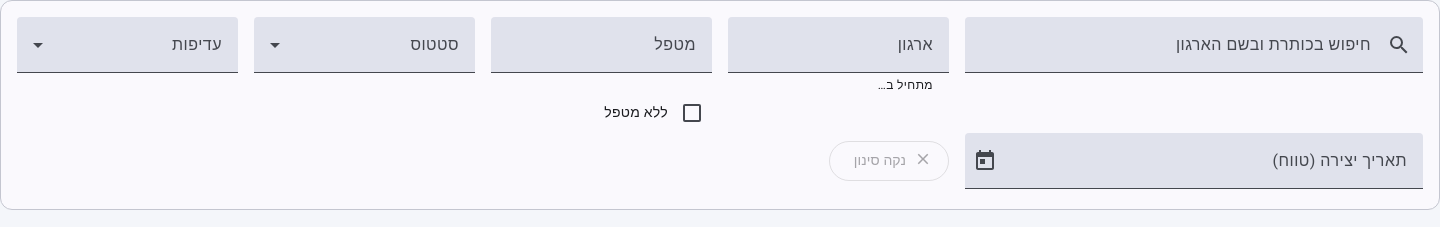
Test case: RequestsFiltersComponent › "x" button of the text fields › is shown only while the field has a value
Type "abc" into the field labelled "חיפוש בכותרת ובשם הארגון".
click(1176, 53); type("abc")  # box x1=981 y1=41 x2=1371 y2=65
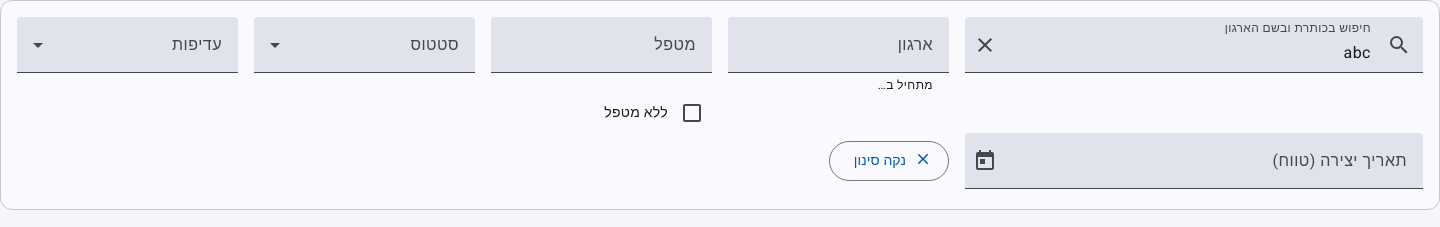
Now the button named "נקה" is shown, box x1=965 y1=25 x2=1005 y2=65
Clear the field labelled "חיפוש בכותרת ובשם הארגון" at coordinates (1190, 53), box x1=1009 y1=41 x2=1371 y2=65
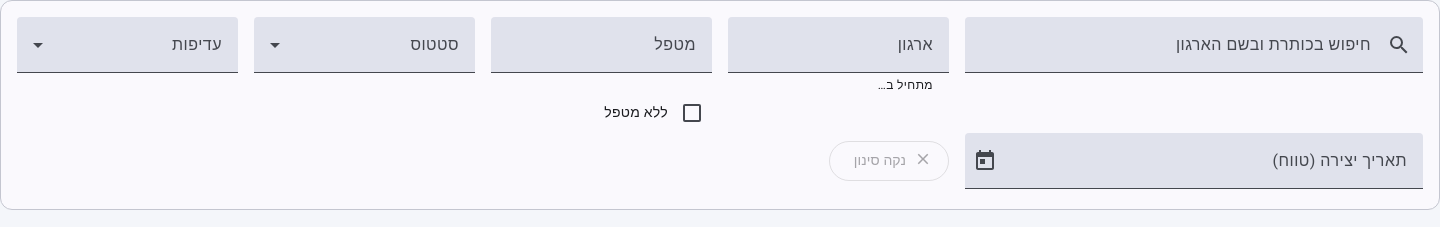
Now the button named "נקה" is gone
Type "abc" into the field labelled "ארגון".
click(838, 53); type("abc")  # box x1=744 y1=41 x2=933 y2=65
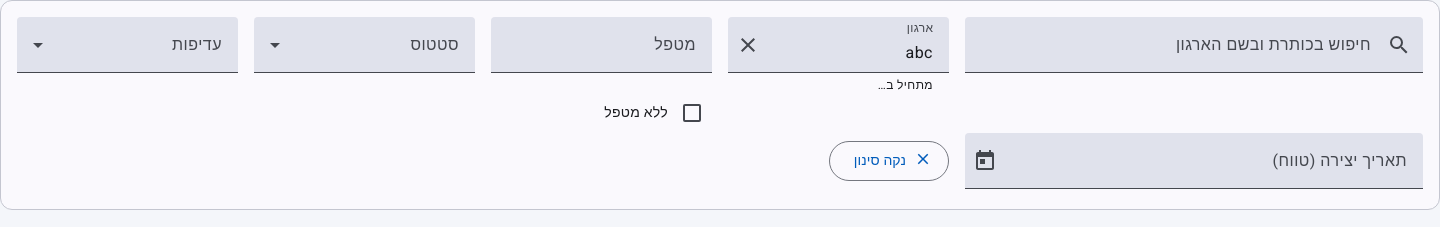
Now the button named "נקה" is shown, box x1=728 y1=25 x2=768 y2=65
Clear the field labelled "ארגון" at coordinates (852, 53), box x1=772 y1=41 x2=933 y2=65
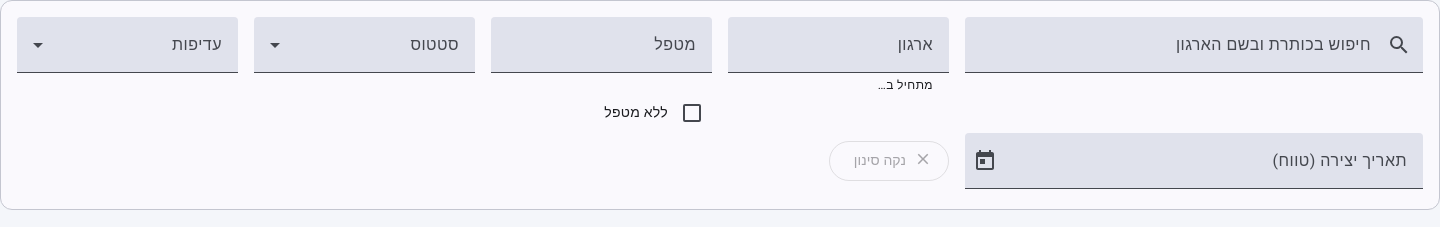
Now the button named "נקה" is gone
Type "abc" into the field labelled "מטפל".
click(602, 53); type("abc")  # box x1=507 y1=41 x2=696 y2=65
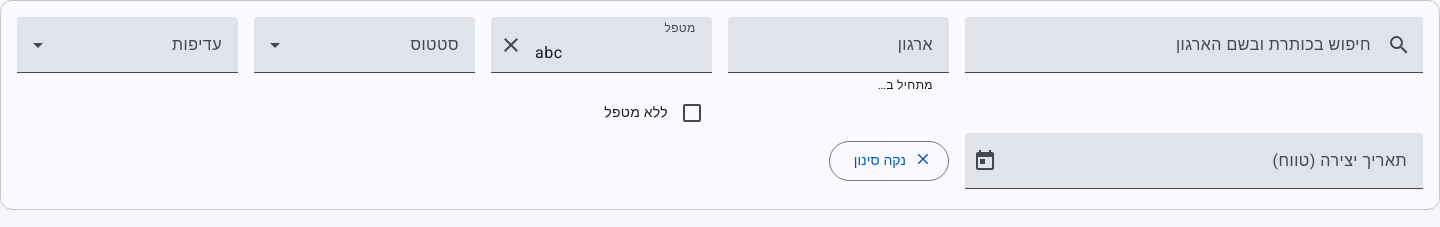
Now the button named "נקה" is shown, box x1=491 y1=25 x2=531 y2=65
Clear the field labelled "מטפל" at coordinates (616, 53), box x1=535 y1=41 x2=696 y2=65
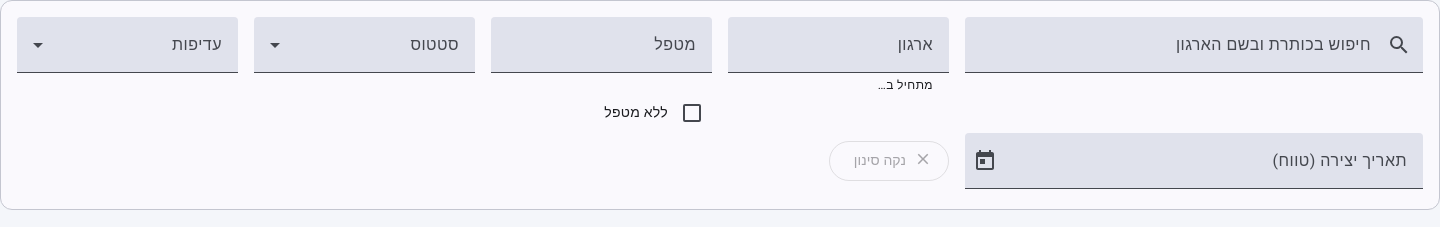
Now the button named "נקה" is gone
